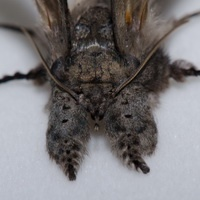insect: (0, 77, 199, 198), (134, 1, 169, 51), (165, 16, 199, 67)
